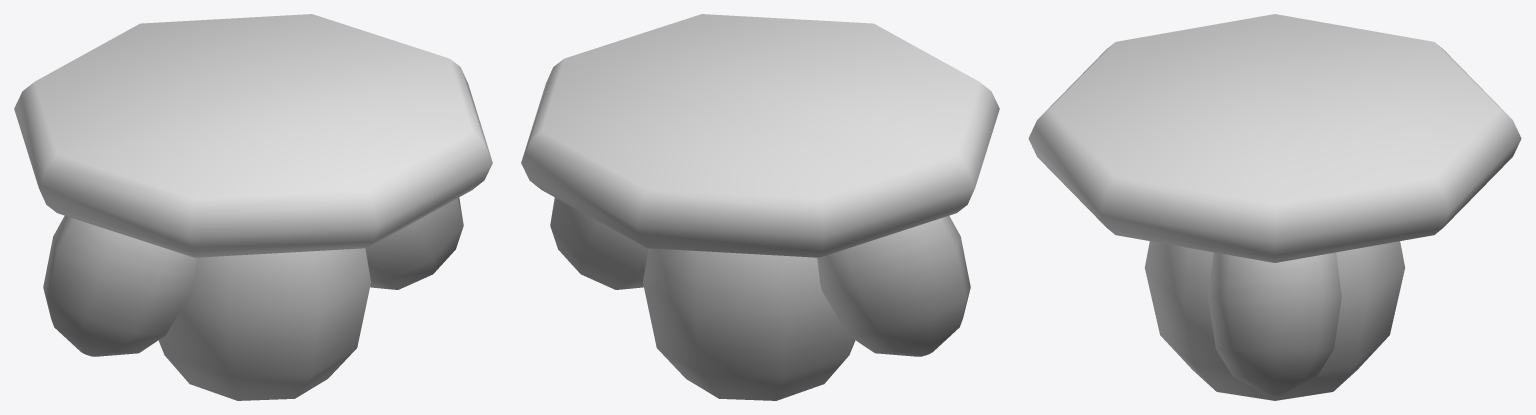
The model's file is stone_pommel_164.glb.
3 views of the same model, side by side, from view 1: azimuth 30°, elevation 25°; view 2: azimuth 150°, elevation 25°; view 3: azimuth 270°, elevation 25° (orthographic).
Parts seen in each view (by area): view 1: stone_pommel.164; view 2: stone_pommel.164; view 3: stone_pommel.164.
Boxes of the visible parts, bbox=[...] form: stone_pommel.164: bbox=[14, 14, 492, 400]; stone_pommel.164: bbox=[521, 14, 999, 400]; stone_pommel.164: bbox=[1028, 14, 1521, 400].
Bounding box in the file's own units: 3.16 × 2.02 × 3.16.
Materials: 1 (1 with a texture image).
